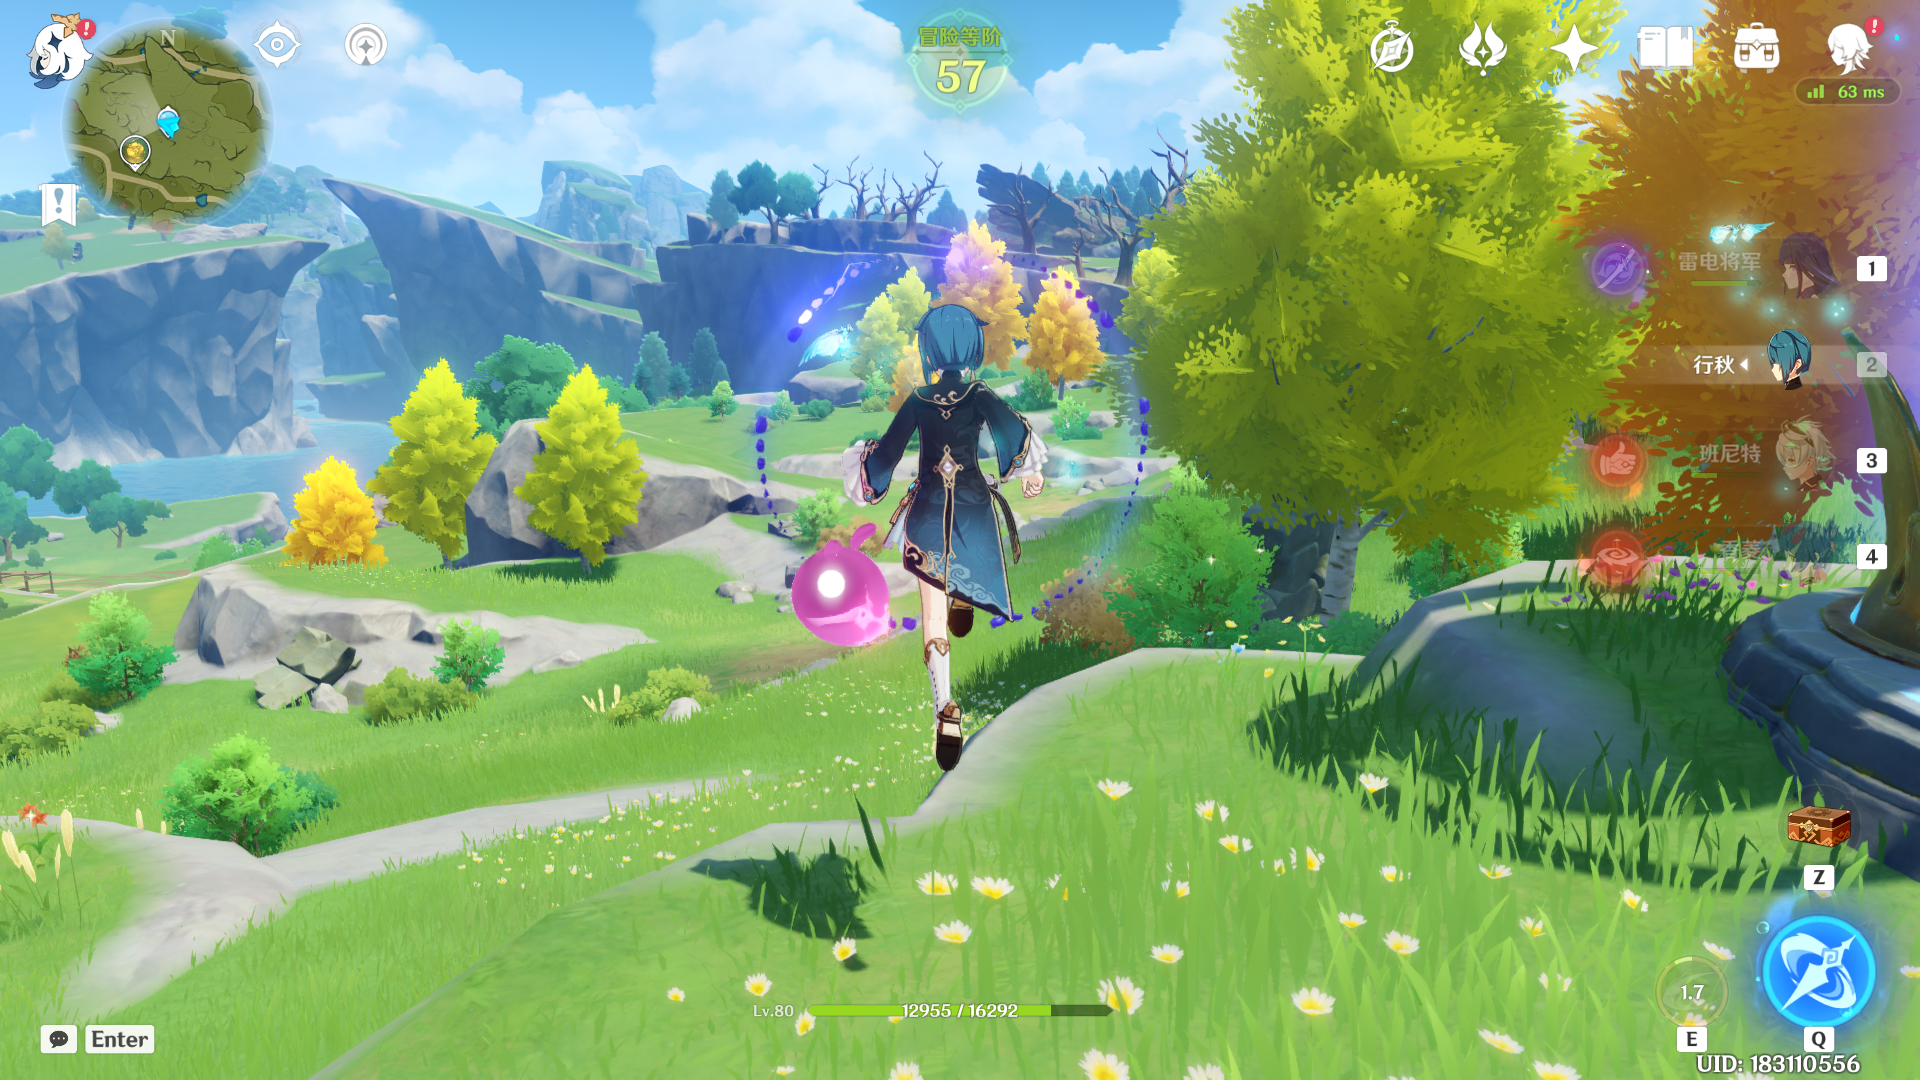character: (793, 260, 1083, 814)
